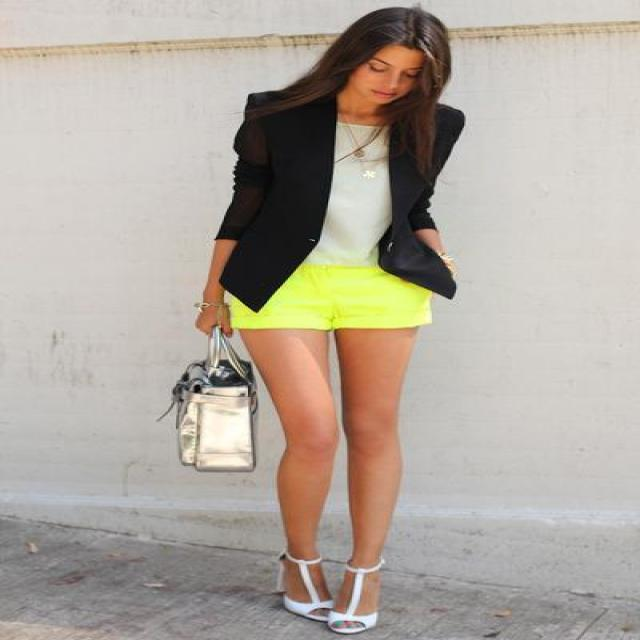bag: (157, 357, 253, 465)
jacket: (214, 90, 464, 312)
shirt: (304, 122, 390, 264)
shoe: (285, 576, 376, 639)
skirt: (224, 262, 435, 331)
